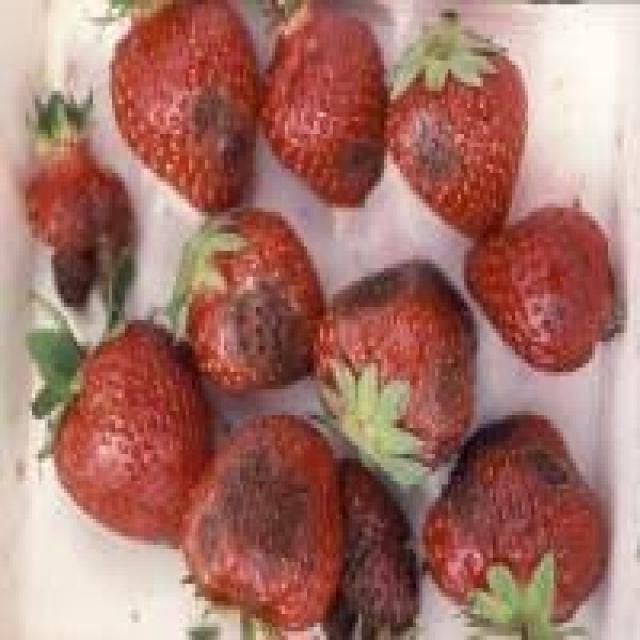Mancha negra Antracnosis: (440, 413, 598, 628), (190, 410, 340, 621), (323, 258, 471, 458), (174, 208, 323, 392), (116, 8, 252, 205), (384, 50, 520, 237), (271, 34, 383, 212), (321, 441, 424, 628), (26, 142, 124, 298)
